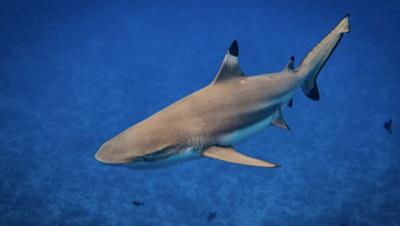Shark -Selachimorpha-: (94, 10, 351, 172)
